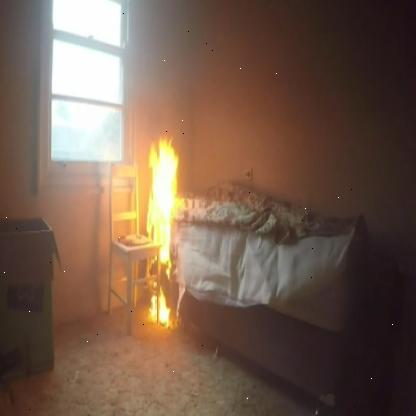fire: (143, 130, 182, 333)
